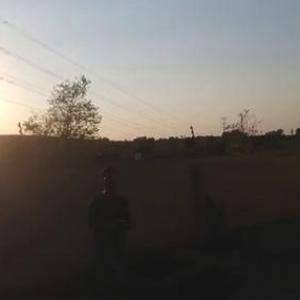follow: (86, 164, 144, 299)
